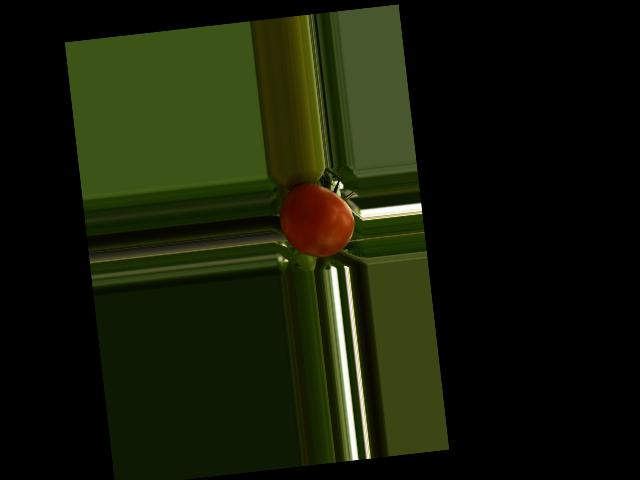tomato: (276, 178, 358, 261)
